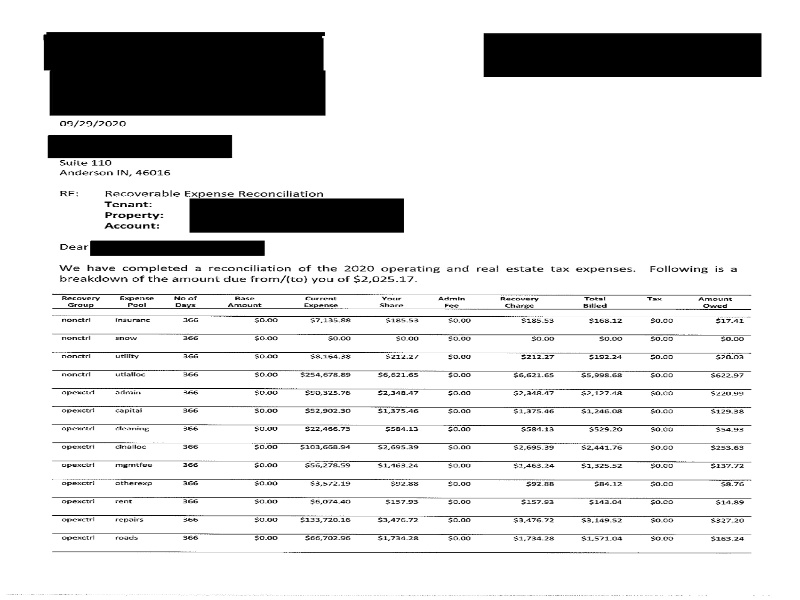table: (48, 287, 756, 561)
